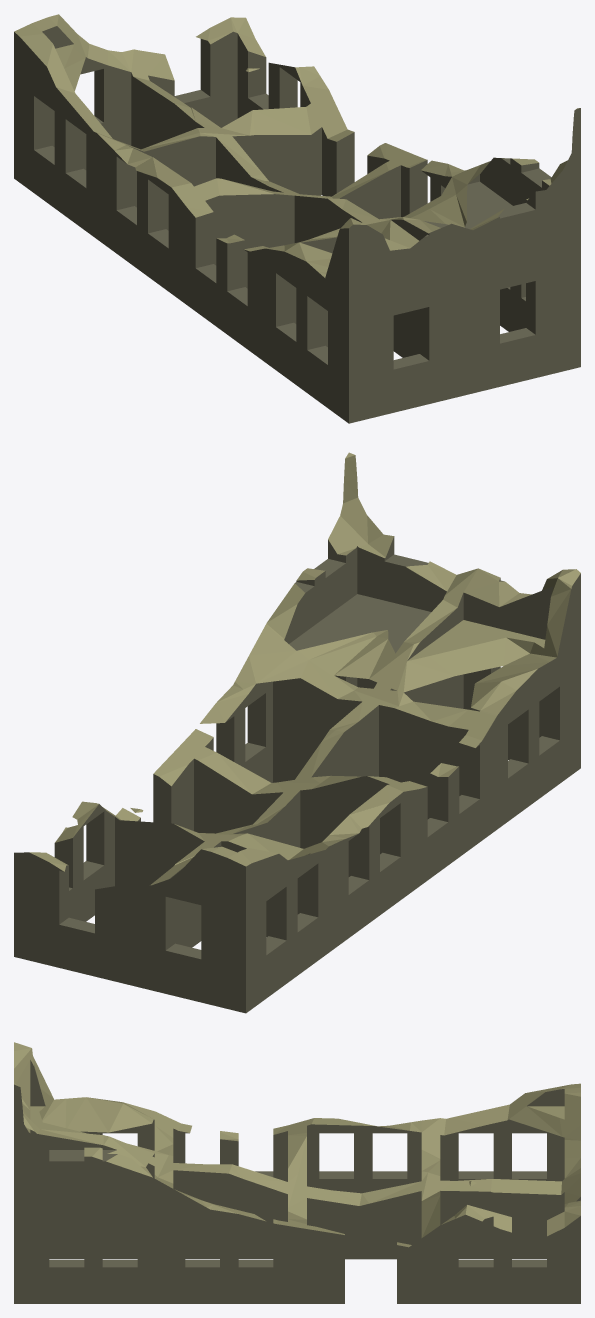
File: Buildings 1.fbx
3 views of the same model, one above another, from view 1: azimuth 30°, elevation 25°; view 2: azimuth 150°, elevation 25°; view 3: azimuth 270°, elevation 25° (orthographic). The views are drawn at different scales.
Parts seen in each view (by area): view 1: Buildings 1; view 2: Buildings 1; view 3: Buildings 1.
Boxes of the visible parts, <box> form: Buildings 1: <box>14,14,580,423</box>; Buildings 1: <box>14,452,580,1013</box>; Buildings 1: <box>14,1042,580,1303</box>.
Bounding box in the file's own units: 487 × 520 × 1219.
